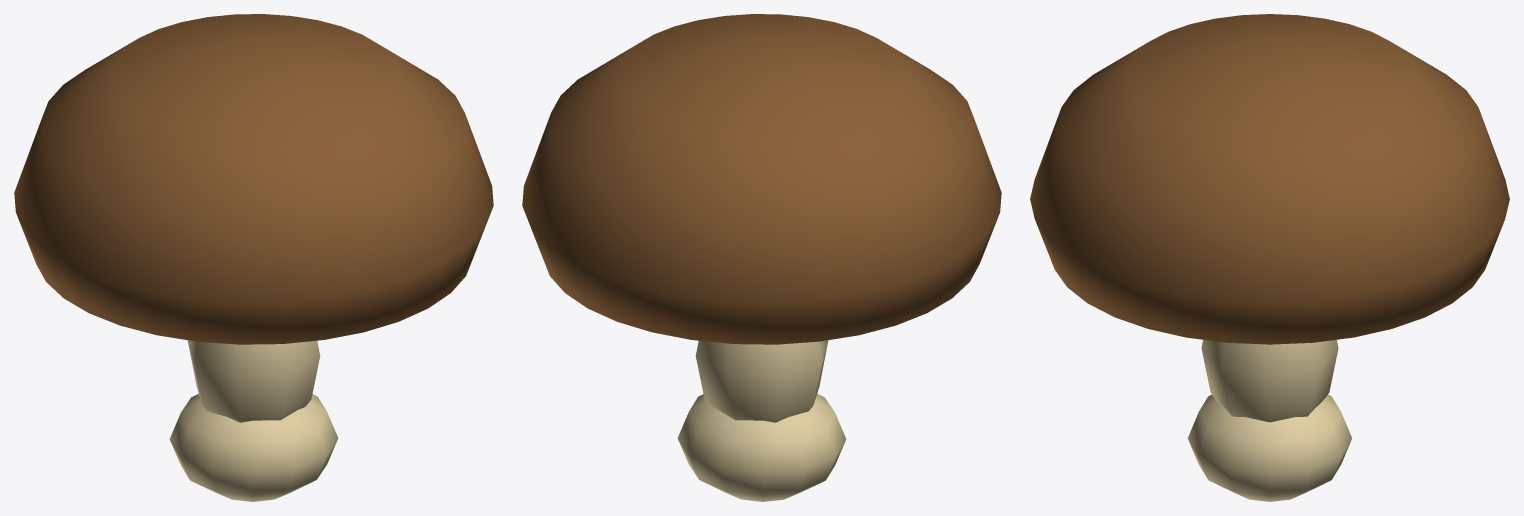
Rendered from lvl01_environment_mushroom_button_v01.glb.
3 renders of one model, left to right at view 1: azimuth 30°, elevation 25°; view 2: azimuth 150°, elevation 25°; view 3: azimuth 270°, elevation 25°, orthographic.
Visible parts, largest first — view 1: cap, base, stem; view 2: cap, base, stem; view 3: cap, base, stem.
Boxes of the visible parts, left/top/right/bottom form: cap: left=14, top=14, right=493, bottom=344; base: left=169, top=393, right=338, bottom=501; stem: left=187, top=340, right=320, bottom=422; cap: left=522, top=14, right=1001, bottom=344; base: left=677, top=393, right=846, bottom=501; stem: left=695, top=340, right=828, bottom=422; cap: left=1030, top=14, right=1509, bottom=344; base: left=1187, top=394, right=1352, bottom=501; stem: left=1201, top=340, right=1338, bottom=422.
Bounding box in the file's own units: 0.7 × 0.703 × 0.7.
1 material, 1 textured.
